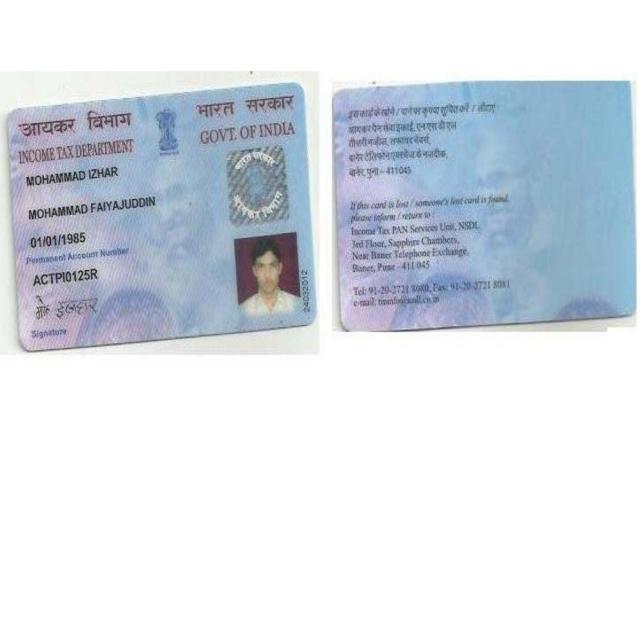pan_card: (9, 82, 316, 352), (333, 83, 632, 329)
